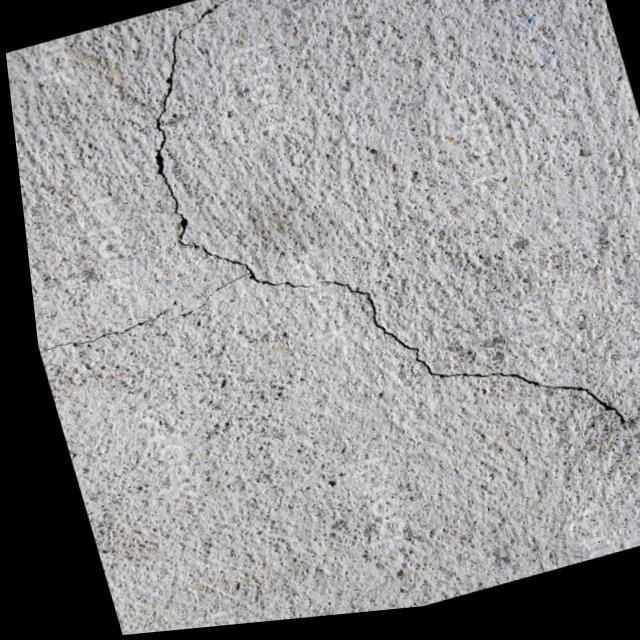Crack: (219, 253, 629, 420), (151, 24, 205, 253)
